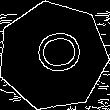O_W: (24, 31, 82, 81)
